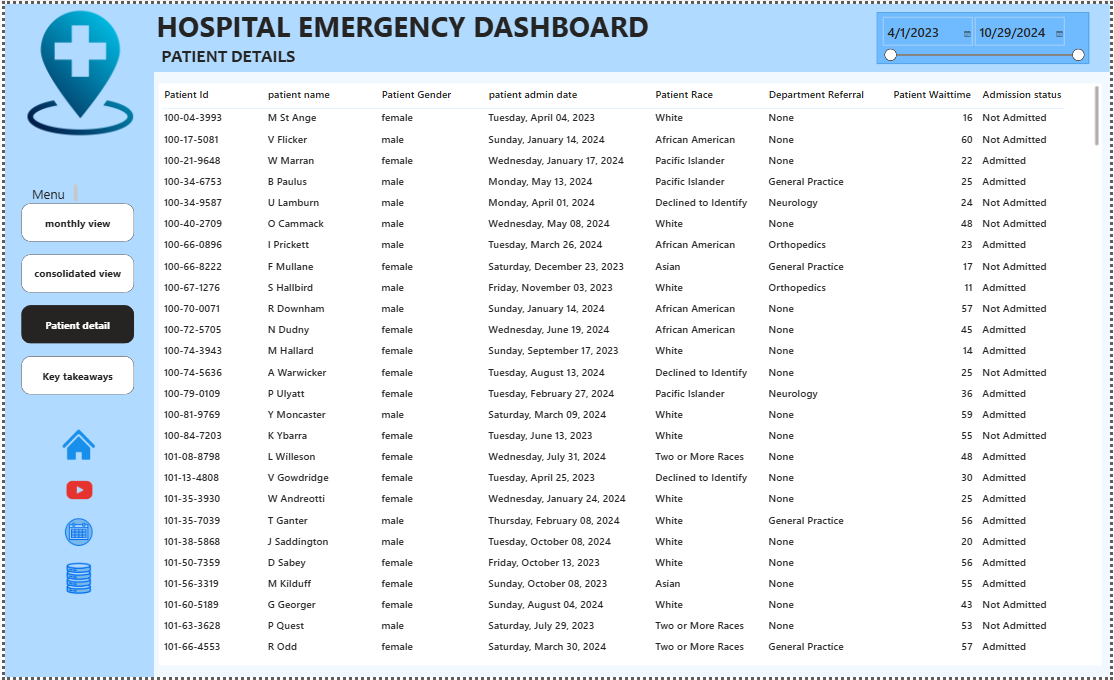

This screenshot's page, from the dashboard's own definition file:
{"tool":"powerbi","page":{"name":"Patient detail","canvas":[2297,1400],"ordinal":2},"visuals":[{"type":"shape","box":[0,0,310,1401.6],"z":0},{"type":"shape","box":[310,0,1987.8,141.5],"z":1000},{"type":"textbox","box":[310,0,1057.9,97.7],"z":2000},{"type":"textbox","box":[320,80,323.3,60],"z":3000},{"type":"slicer","fields":{"Values":["Date table.Date"]},"box":[1812,16,442,108],"z":4000},{"type":"shape","box":[1388.3,1548.3,600,270],"z":5000},{"type":"tableEx","fields":{"Values":["Hospital ER_Data.Patient Id","Hospital ER_Data.patient full name","Hospital ER_Data.Patient Gender","Hospital ER_Data.patient admin date","Hospital ER_Data.Patient Race","Hospital ER_Data.Department Referral","Sum(Hospital ER_Data.Patient Waittime)","Hospital ER_Data.Admission status"]},"box":[320,165,1960,1210],"z":6000},{"type":"pageNavigator","box":[35,415,235,400],"z":7000},{"type":"image","box":[91,865.9,124.7,101.1],"z":8000},{"type":"image","box":[128,963.6,53.9,94.3],"z":9000},{"type":"image","box":[124.7,1057.9,57.3,80.9],"z":10000},{"type":"image","box":[117.9,1138.8,70.8,111.2],"z":11000},{"type":"textbox","box":[50,370,105,45],"z":12000},{"type":"image","box":[6.7,13.3,300,260],"z":13000}]}

Visuals, with their boxes in screenshot pixels (x1, y1, x2, y2), scaled from the page's 2297x1400 canvas onto the 1114x680 screenshot:
shape: locate(0, 0, 150, 679)
shape: locate(150, 0, 1113, 69)
textbox: locate(150, 0, 663, 47)
textbox: locate(155, 39, 312, 68)
slicer - Date table.Date: locate(879, 8, 1093, 60)
tableEx - Hospital ER_Data.Patient Id x Hospital ER_Data.patient full name: locate(155, 80, 1106, 668)
pageNavigator: locate(17, 202, 131, 396)
image: locate(44, 421, 105, 470)
image: locate(62, 468, 88, 514)
image: locate(60, 514, 88, 553)
image: locate(57, 553, 92, 607)
textbox: locate(24, 180, 75, 202)
image: locate(3, 6, 149, 133)
